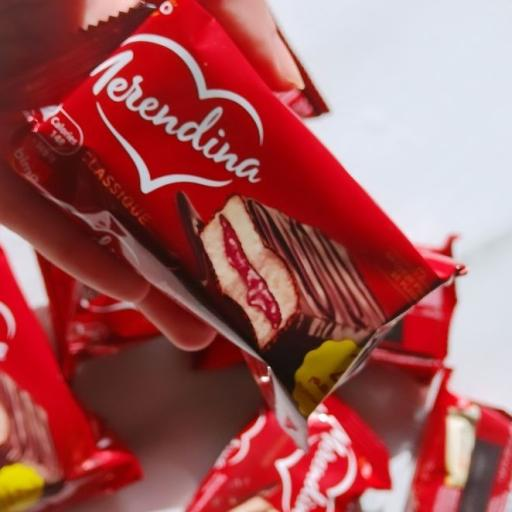merendina: (71, 0, 470, 386), (0, 199, 87, 512), (214, 390, 392, 512)
